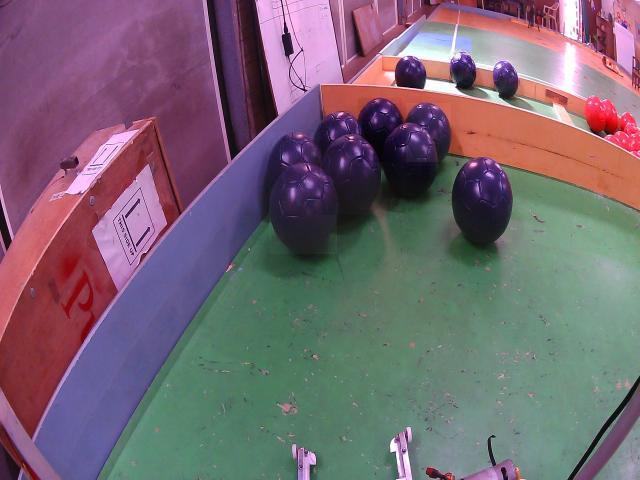kaalyya: (270, 162, 337, 254), (452, 157, 512, 243), (323, 135, 381, 215), (382, 124, 438, 198), (267, 132, 320, 188), (358, 98, 402, 162), (406, 103, 451, 162), (315, 112, 362, 154), (395, 55, 426, 88), (450, 52, 477, 88), (494, 60, 519, 98)
